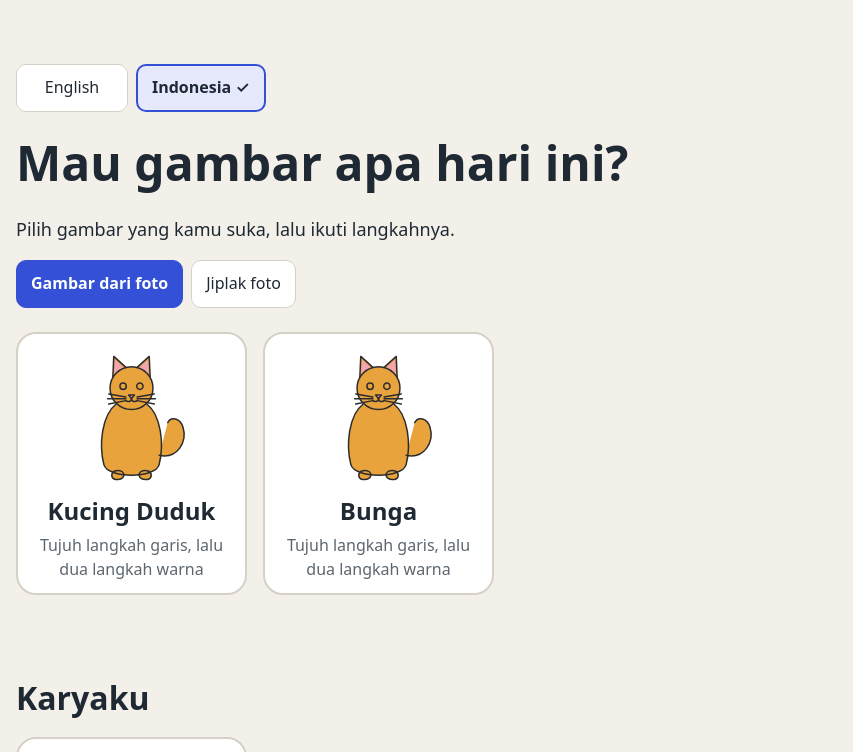
Test: lesson picker › returns to the picker from a finished drawing
Expected: the heading "Karyaku" is shown, [16,676,150,719]
Click the button "Kucing Duduk Tujuh langkah garis, lalu dua langkah warna": (132, 463) [16,332,247,595]
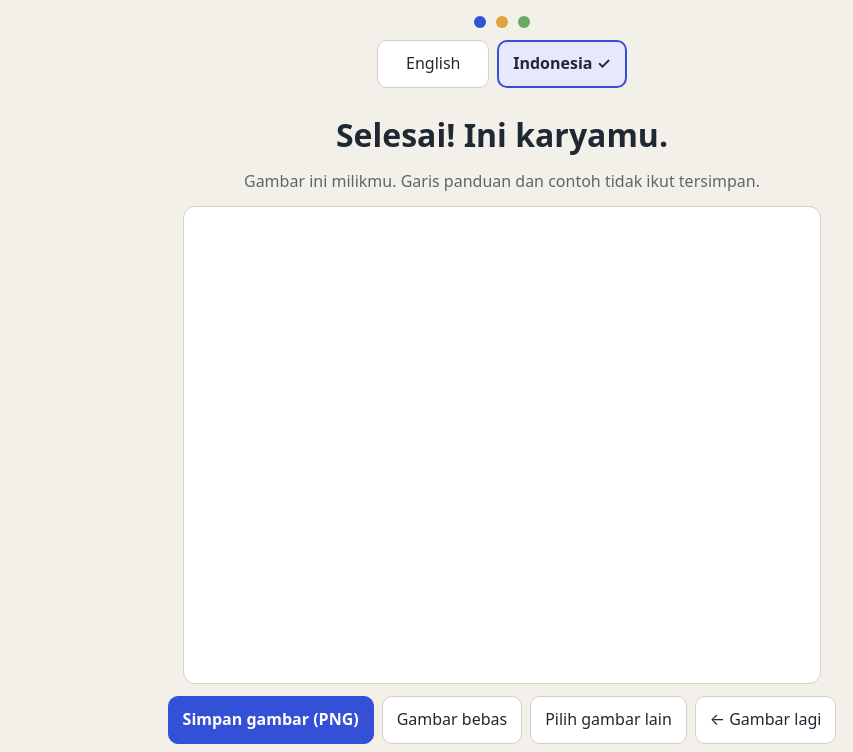
Expected: the heading "Selesai! Ini karyamu." is shown, [336,112,668,158]
Click the button "Pilih gambar lain": (608, 720) [530,696,687,744]
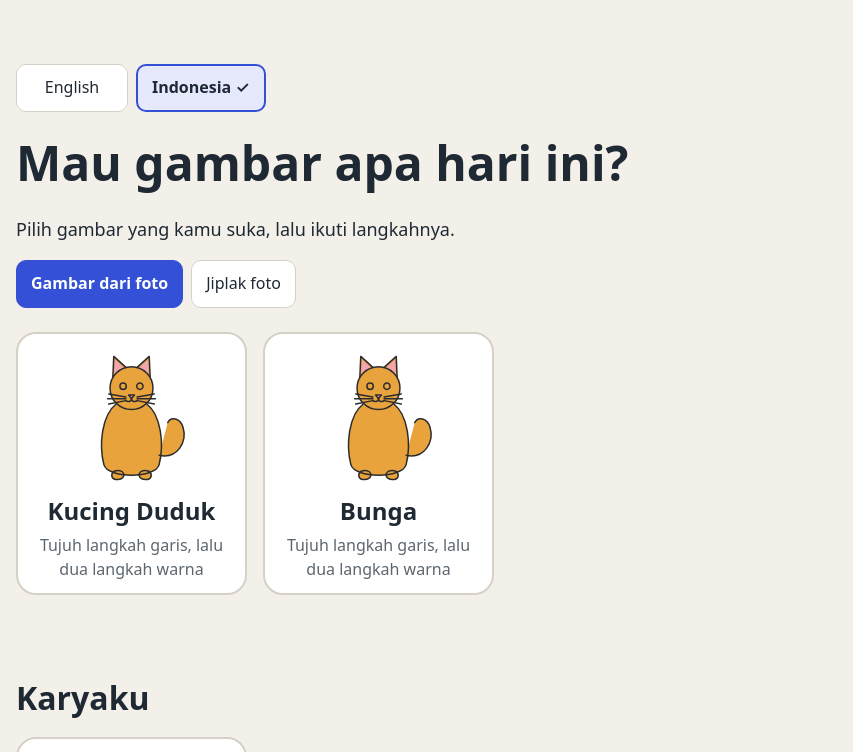
Expected: the heading "Mau gambar apa hari ini?" is shown, [16,130,628,195]
